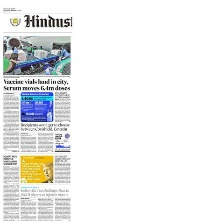news_paper: (0, 3, 75, 222)
